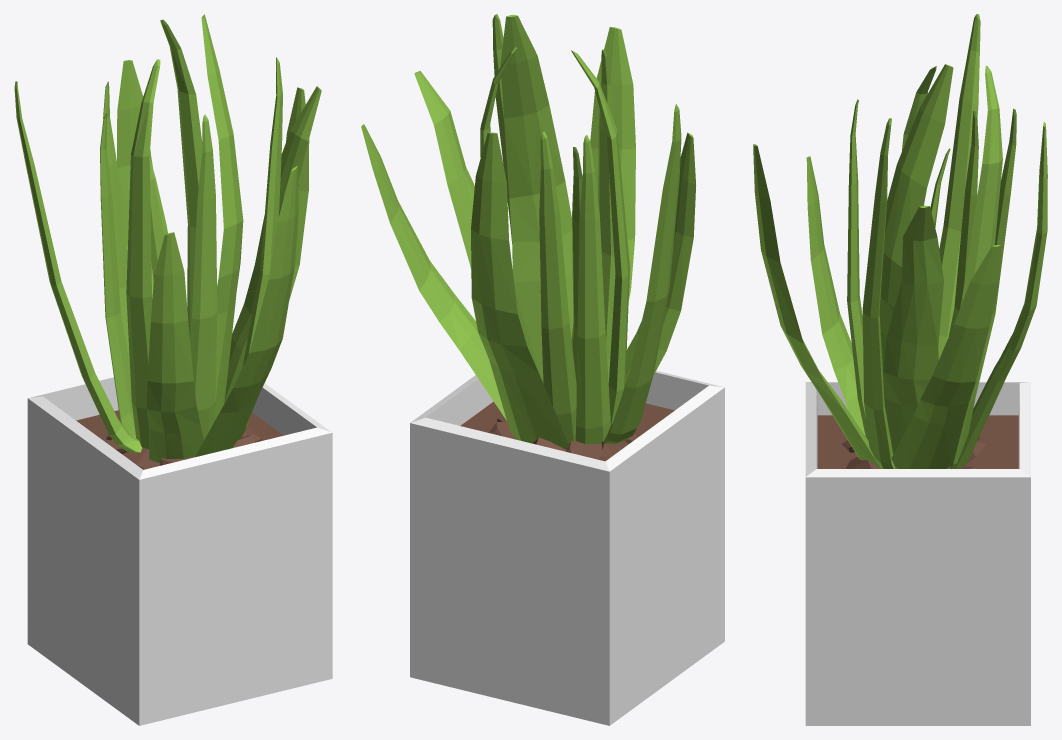
The model's file is Plant - White Pot.glb.
The picture shows the model from 3 angles, left to right: view 1: azimuth 30°, elevation 25°; view 2: azimuth 150°, elevation 25°; view 3: azimuth 270°, elevation 25°; orthographic projection. The views are drawn at different scales.
Parts seen in each view (by area): view 1: group1885116500, group1507777984, group2053840647, group1406455588, group1377145234, group560799048, group1647754183, group1781696643, group1025492697, group24448074, group1989238829, group714662036 (+3 smaller); view 2: group1885116500, group560799048, group714662036, group1781696643, group1308825903, group1647754183, group31856083, group1406455588, group2053840647, group1507777984, group24448074, group1377145234 (+3 smaller); view 3: group1885116500, group31856083, group24448074, group560799048, group1989238829, group1647754183, group2053840647, group1507777984, group1025492697, group714662036, group1377145234, group1781696643 (+2 smaller).
Boxes of the visible parts, <box> form: group1885116500: <box>27,377,332,725</box>; group1507777984: <box>146,232,203,463</box>; group2053840647: <box>195,165,298,457</box>; group1406455588: <box>126,59,160,449</box>; group1377145234: <box>190,114,217,439</box>; group560799048: <box>201,14,243,421</box>; group1647754183: <box>14,81,142,452</box>; group1781696643: <box>100,113,135,435</box>; group1025492697: <box>160,19,202,337</box>; group24448074: <box>224,86,321,403</box>; group1989238829: <box>241,57,282,436</box>; group714662036: <box>117,60,153,298</box>; group1885116500: <box>410,370,724,725</box>; group560799048: <box>500,14,573,383</box>; group714662036: <box>471,132,569,448</box>; group1781696643: <box>575,135,610,444</box>; group1308825903: <box>539,131,576,444</box>; group1647754183: <box>602,104,681,444</box>; group31856083: <box>361,124,506,420</box>; group1406455588: <box>571,50,629,425</box>; group2053840647: <box>590,27,635,300</box>; group1507777984: <box>624,132,696,389</box>; group24448074: <box>414,70,474,269</box>; group1377145234: <box>598,49,615,382</box>; group1885116500: <box>805,382,1030,725</box>; group31856083: <box>891,245,1001,468</box>; group24448074: <box>883,205,950,468</box>; group560799048: <box>879,64,953,403</box>; group1989238829: <box>862,118,895,468</box>; group1647754183: <box>938,14,980,359</box>; group2053840647: <box>753,144,881,468</box>; group1507777984: <box>806,156,865,435</box>; group1025492697: <box>952,65,1002,468</box>; group714662036: <box>954,122,1047,468</box>; group1377145234: <box>847,99,868,440</box>; group1781696643: <box>948,110,978,336</box>.
Size of the model in its own units: 1.77 by 3.56 by 1.5.
